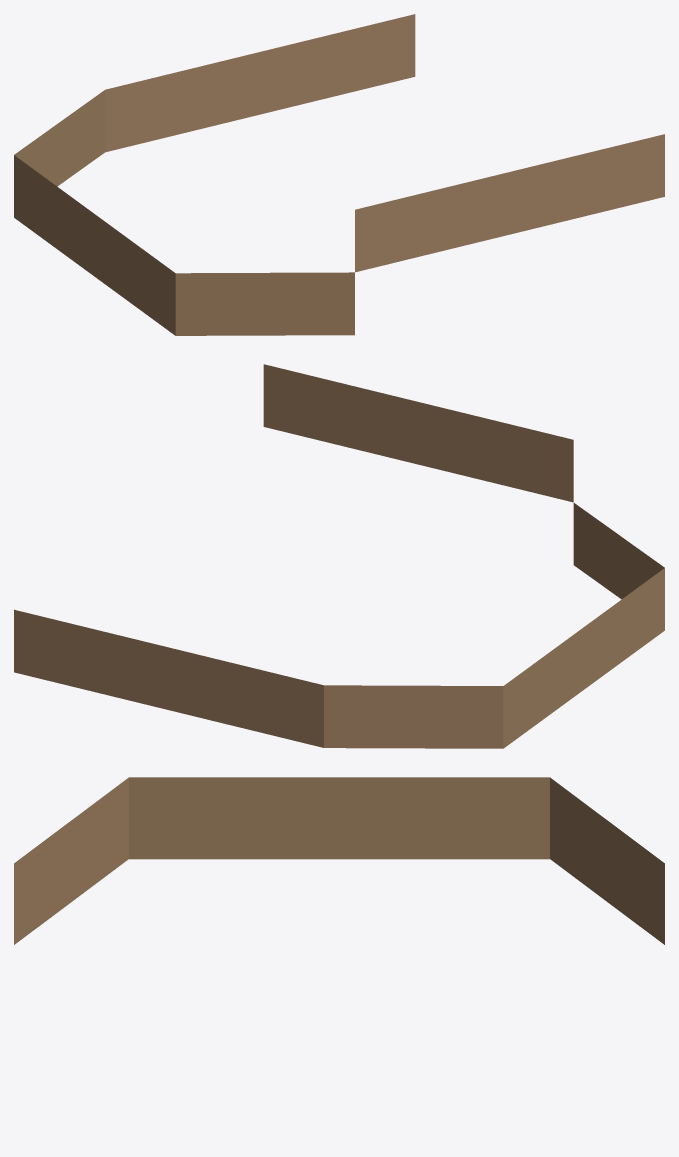
Rendered from 1419-Buildings-shell-pieces-facade-bay-wall-round-an-opening-reveals-sill-head-emitBa.glb.
3 renders of one model, top to bottom at view 1: azimuth 30°, elevation 25°; view 2: azimuth 150°, elevation 25°; view 3: azimuth 270°, elevation 25°, orthographic. The views are drawn at different scales.
Visible parts, largest first — view 1: emitBay; view 2: emitBay; view 3: emitBay.
Part boxes in pixels (x1,y1,x2,y2): emitBay: (14,14,664,335); emitBay: (14,364,664,748); emitBay: (14,777,664,944).
Bounding box in the file's own units: 22.65 × 6.1 × 22.
